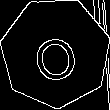O_N: (29, 23, 82, 83)
